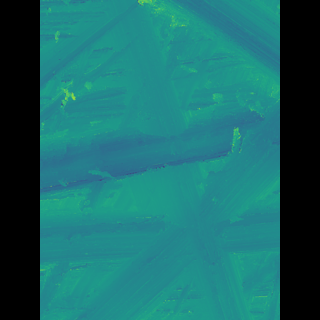Loch: (93, 96, 250, 319), (67, 114, 222, 202)
